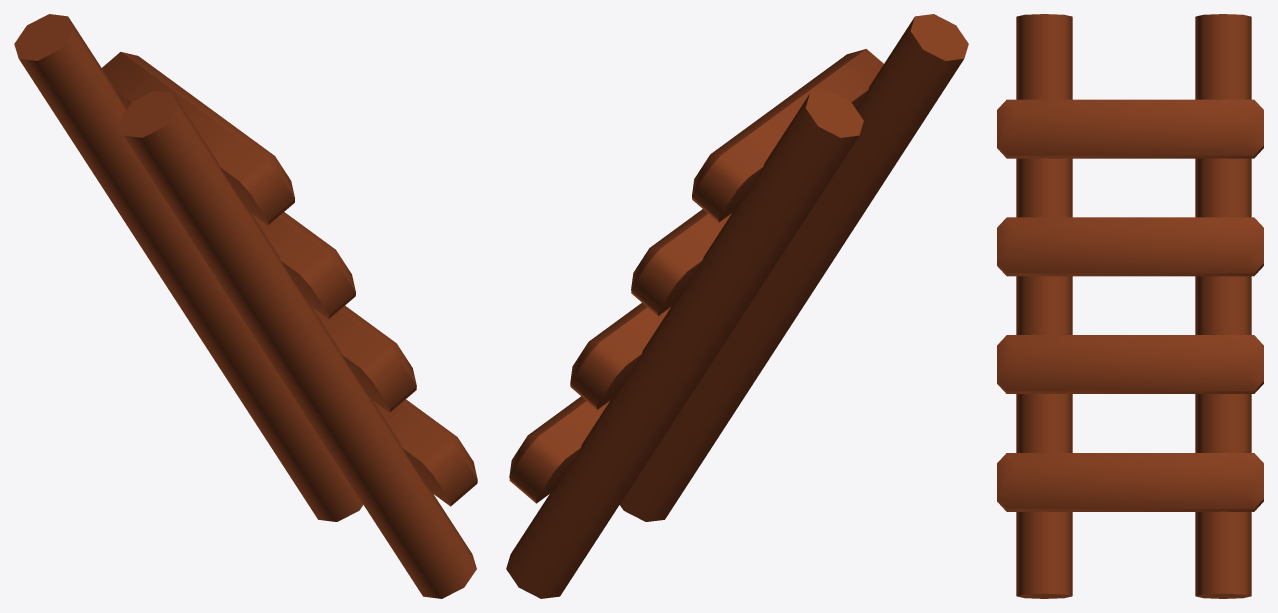
Rendered from ladder.obj.
3 views of the same model, side by side, from view 1: azimuth 30°, elevation 25°; view 2: azimuth 150°, elevation 25°; view 3: azimuth 270°, elevation 25° (orthographic). The views are drawn at different scales.
Parts seen in each view (by area): view 1: ladder; view 2: ladder; view 3: ladder.
Boxes of the visible parts, left/top/right/bottom form: ladder: left=14, top=14, right=477, bottom=598; ladder: left=506, top=14, right=968, bottom=598; ladder: left=997, top=14, right=1263, bottom=598.
Bounding box in the file's own units: 1.32 × 2.05 × 1.03.
